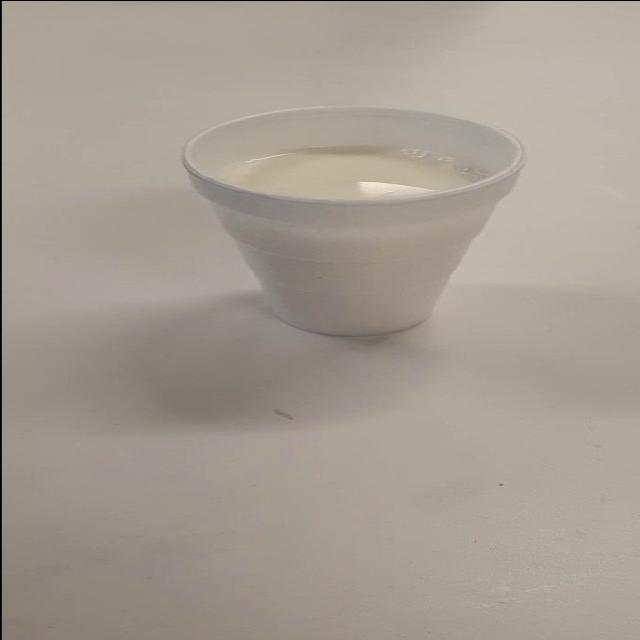Milk: (156, 92, 568, 338)
